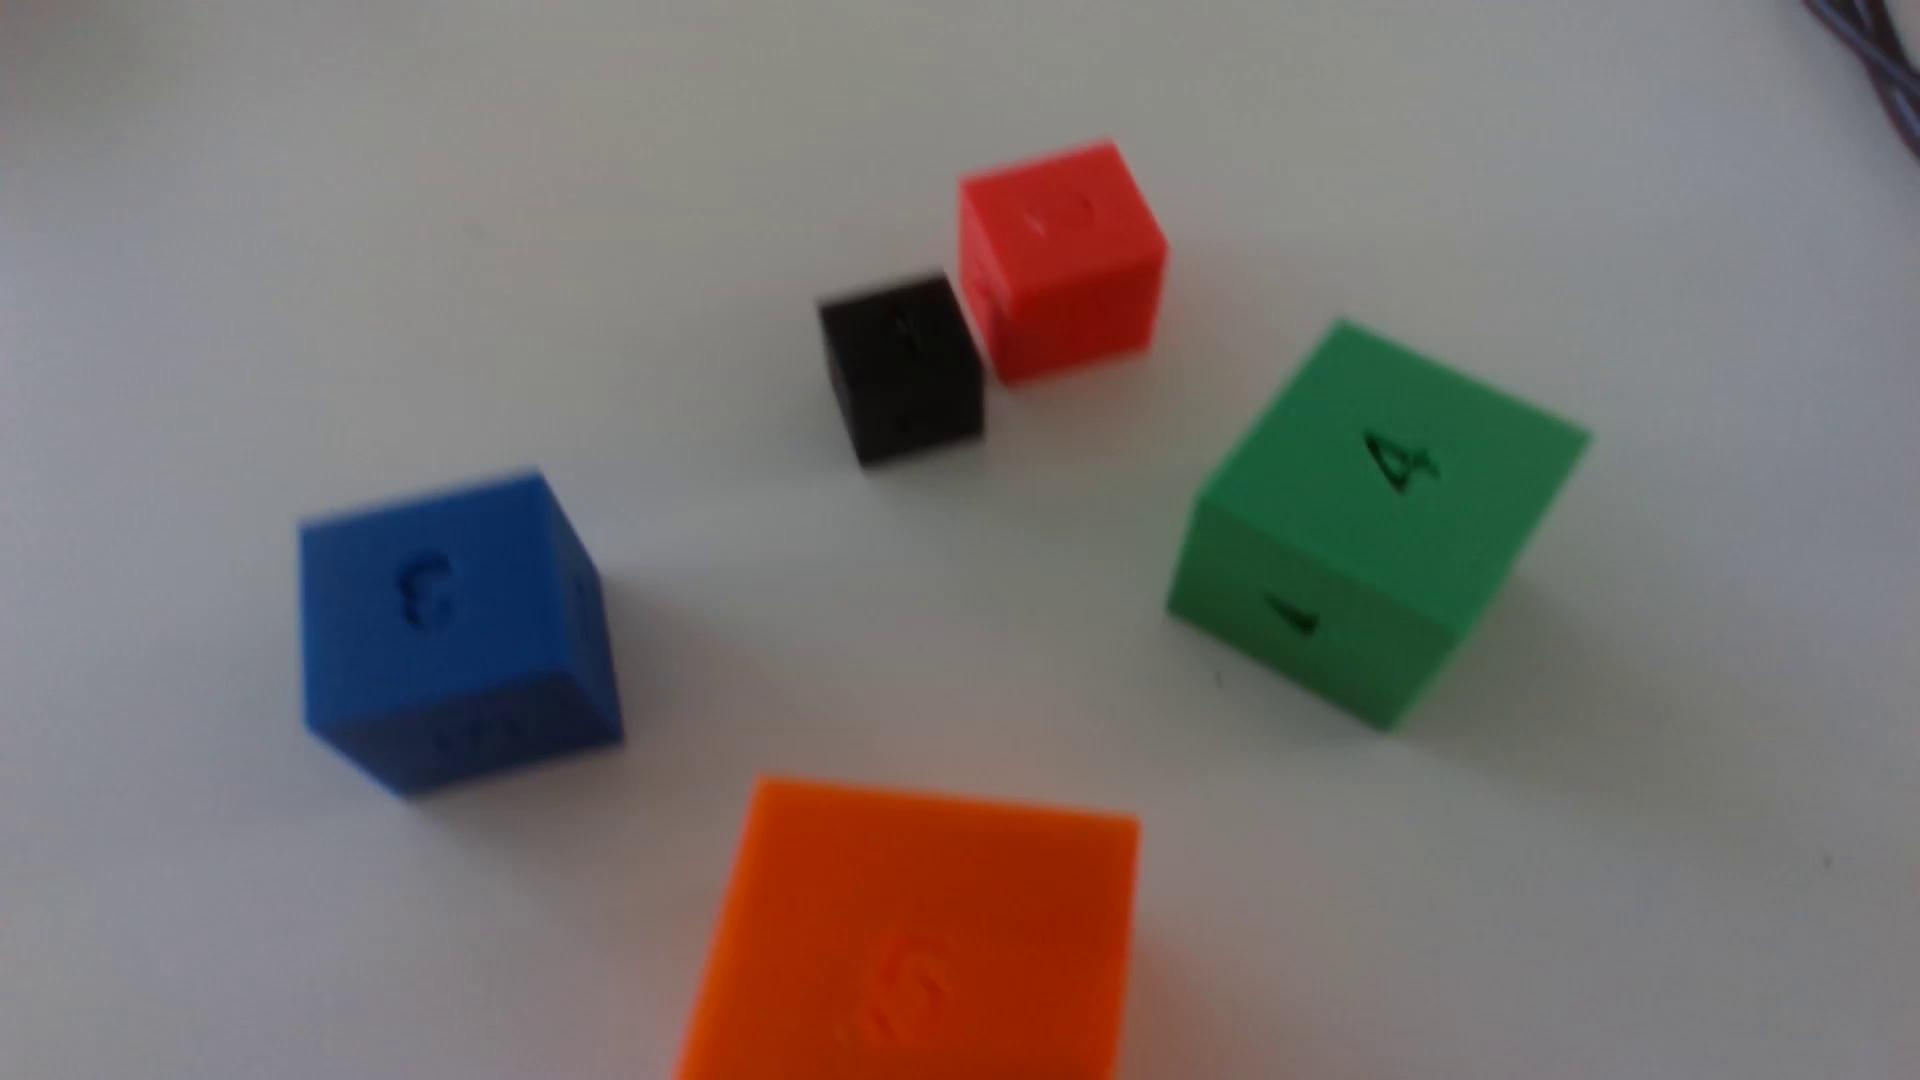black: (818, 276, 985, 471)
blue: (299, 473, 624, 798)
green: (1167, 323, 1588, 731)
orange: (676, 779, 1139, 1080)
red: (955, 144, 1168, 388)
